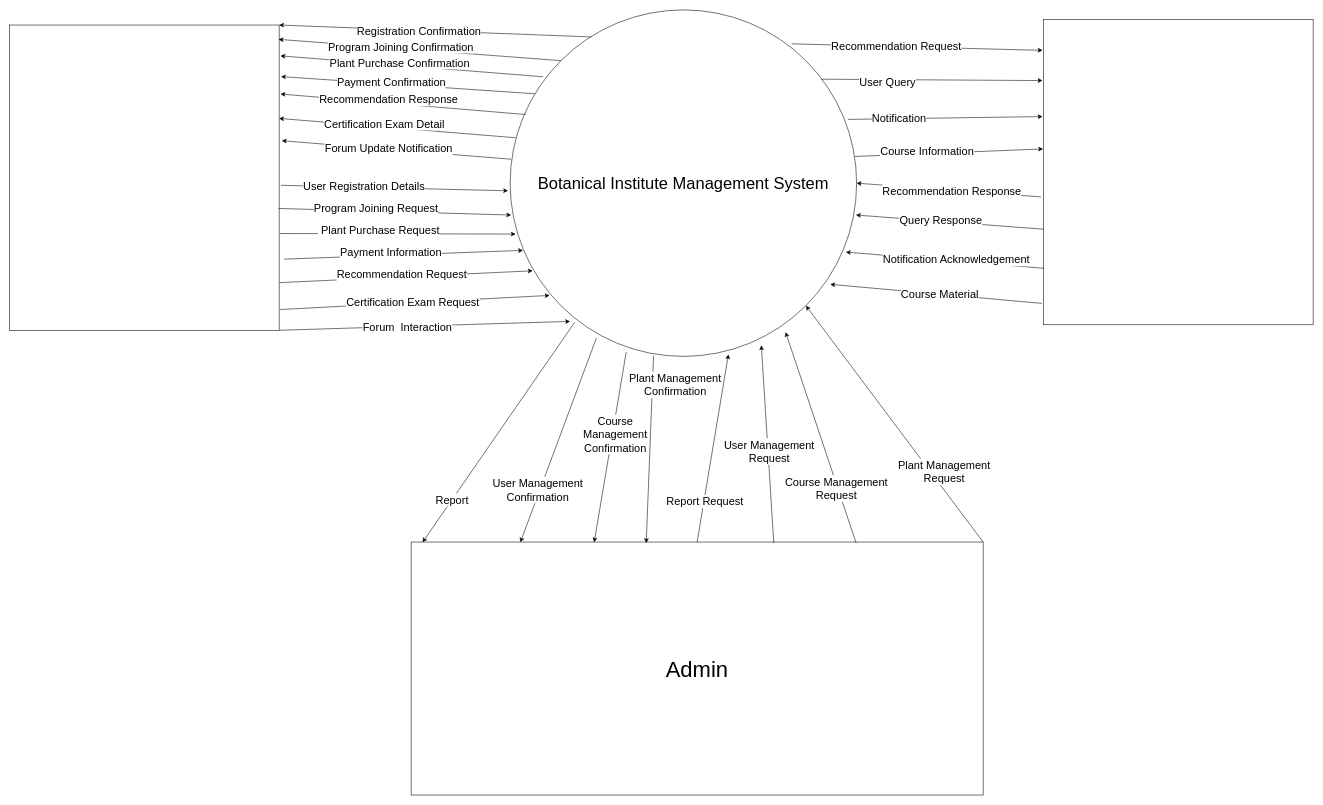
Image size: 1323x805. Some labels were removed from this diagram. Here are the shapes that lost their labels. From the top down, the box of each, then its label:
(9, 24, 279, 330): User
(1043, 19, 1313, 325): Expert
